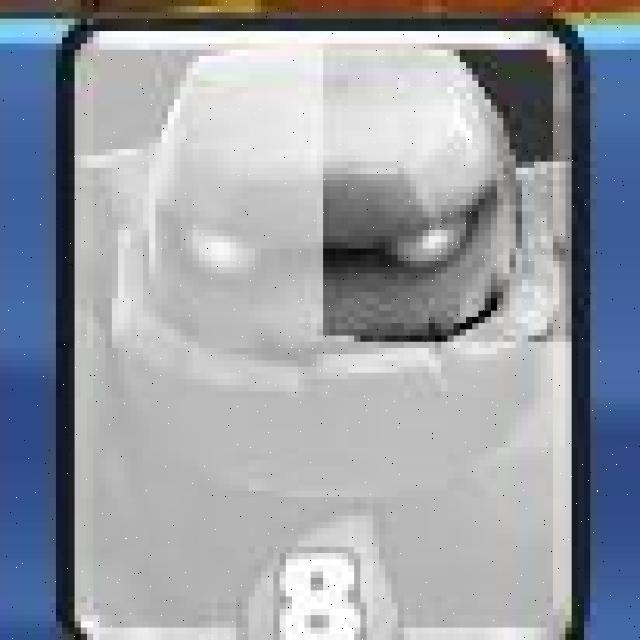Golem: (52, 20, 590, 640)
